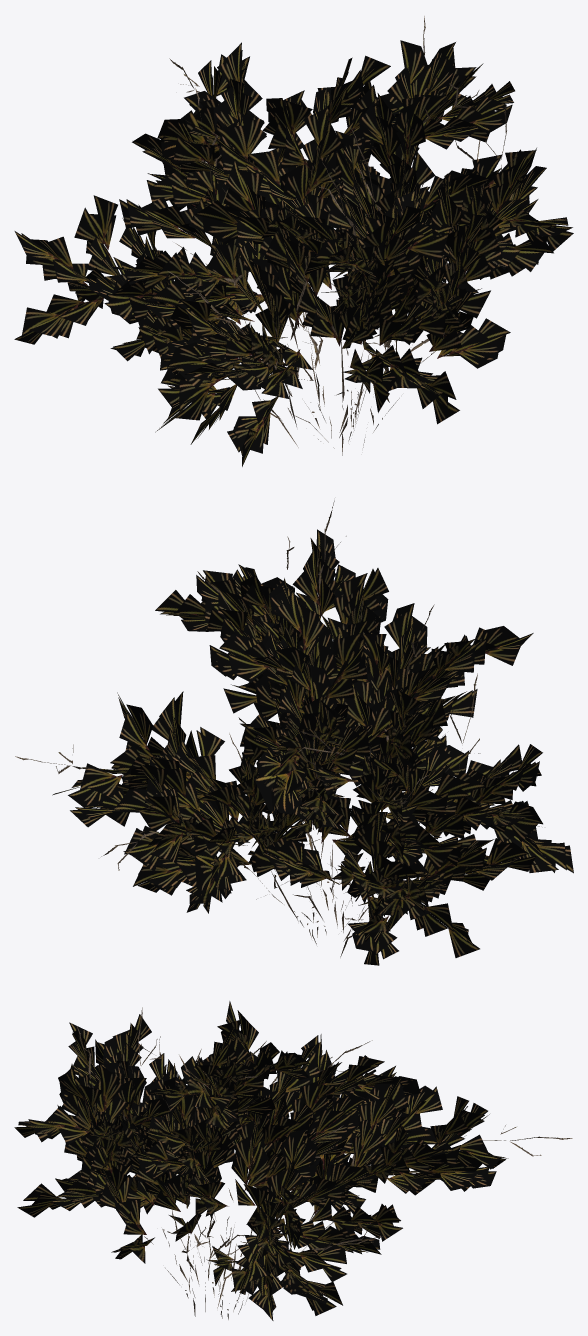
Rendered from rooibos.glb.
3 views of the same model, one above another, from view 1: azimuth 30°, elevation 25°; view 2: azimuth 150°, elevation 25°; view 3: azimuth 270°, elevation 25° (orthographic). The views are drawn at different scales.
Visible parts, largest first — view 1: wild_rooibos_bush_a; view 2: wild_rooibos_bush_a; view 3: wild_rooibos_bush_a.
Part boxes in pixels (x1=…): wild_rooibos_bush_a: x1=14, y1=16, x2=573, y2=466; wild_rooibos_bush_a: x1=15, y1=500, x2=573, y2=965; wild_rooibos_bush_a: x1=14, y1=1001, x2=572, y2=1320.
Size of the model in its own units: 0.69 by 0.5427 by 0.8433.
Materials: 3 (3 with a texture image).
